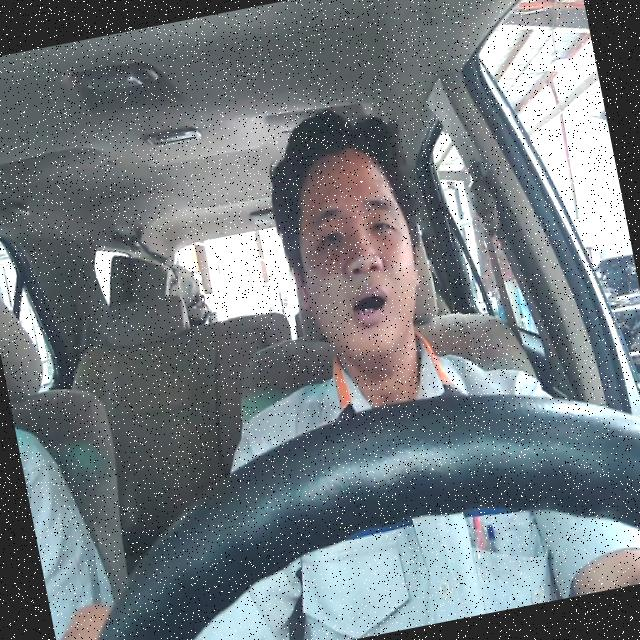yarning: (272, 137, 434, 368)
